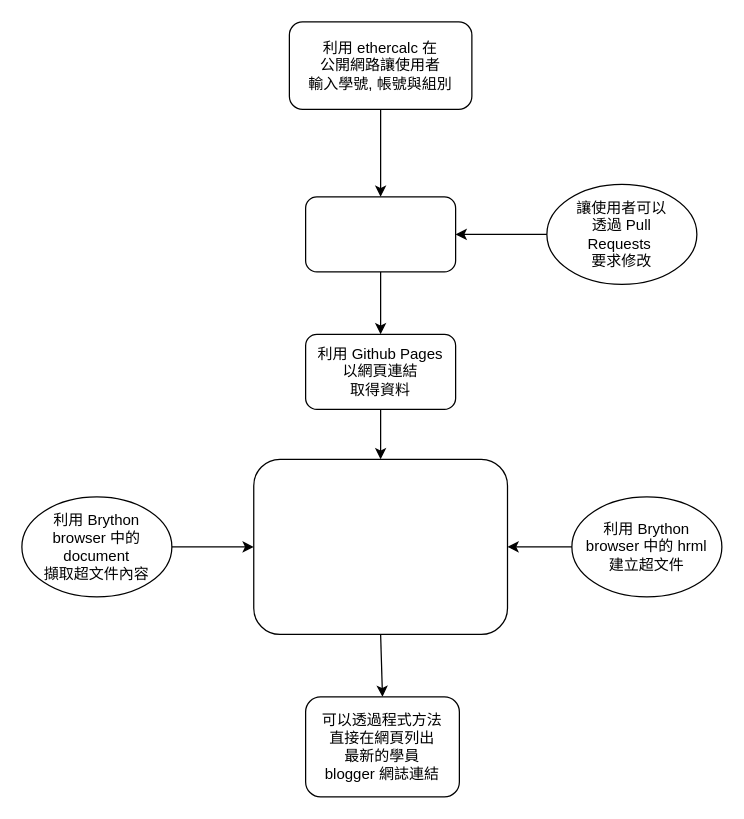
This 744x819 diagram has some shape labels left out. Each missing label, with the box of its shape:
將資料存入 github 倉儲: (304, 196, 456, 272)
根據資料連結 以 Brython 程式 讀取後, 按照跳行符號 及 tab 符號分割後 可以得到任一學員的學號, 帳號, 組別 Blogger 帳號: (252, 458, 508, 634)
